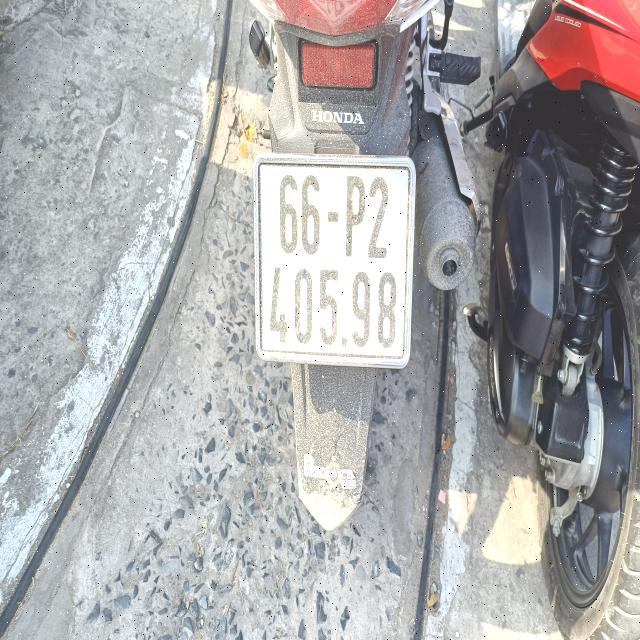0: (292, 263, 314, 340)
2: (366, 178, 391, 265)
4: (268, 262, 288, 347)
5: (319, 263, 340, 352)
6: (274, 172, 299, 258), (300, 175, 321, 256)
8: (379, 274, 399, 348)
9: (351, 270, 375, 345)
P: (345, 172, 366, 255)
